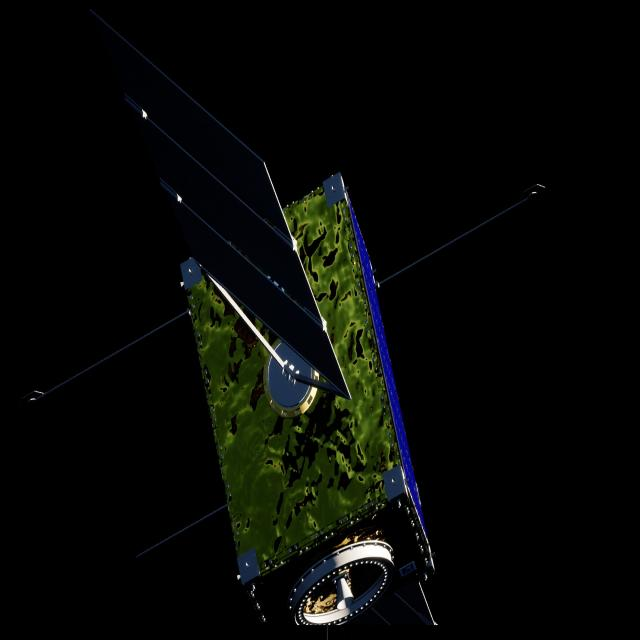satellite: (87, 6, 437, 640)
